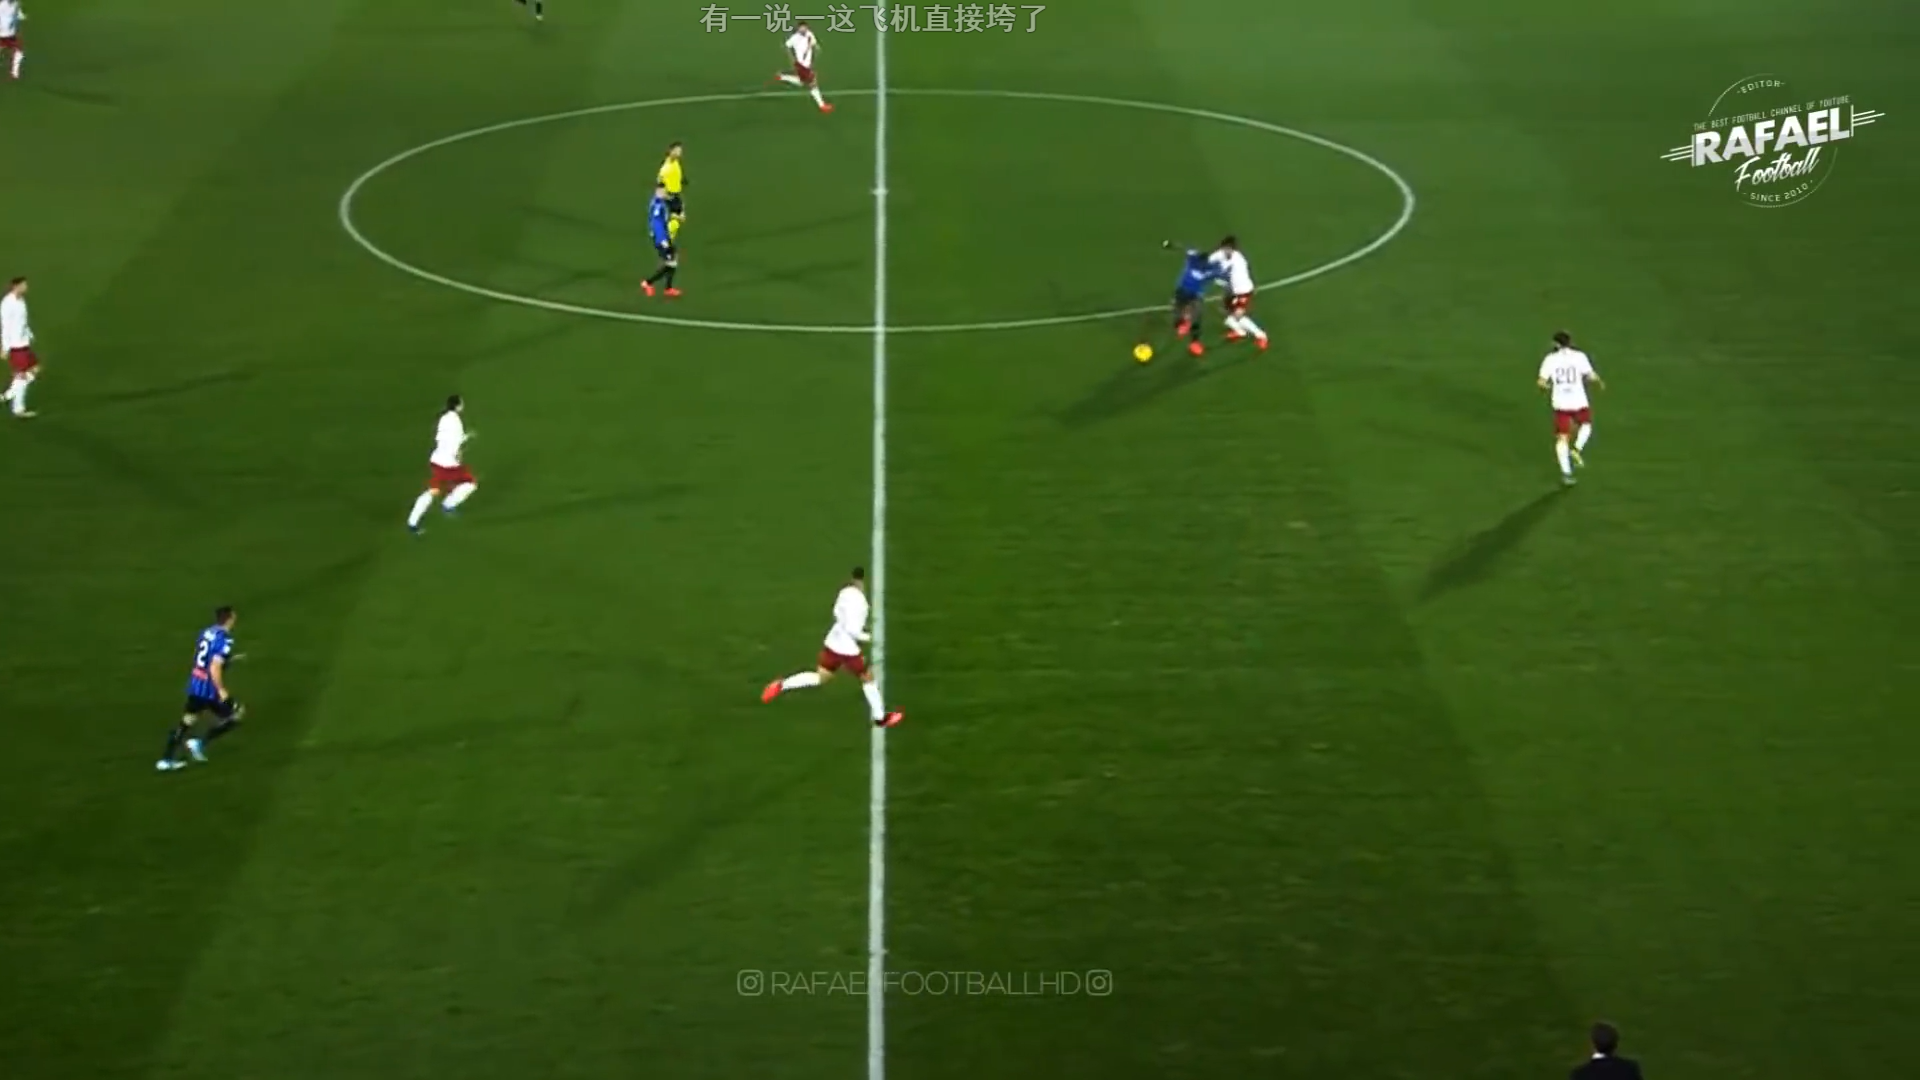ft: (1130, 342, 1155, 368)
